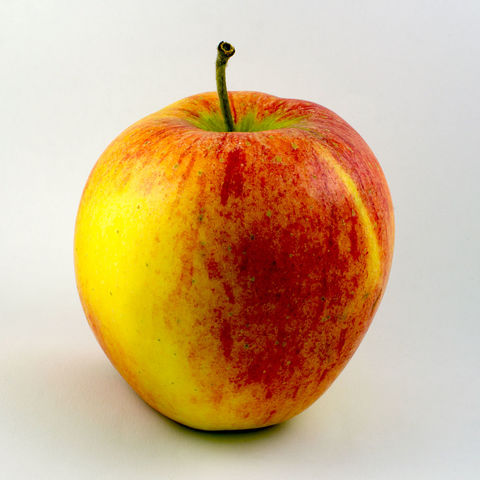apple: (65, 32, 400, 438)
